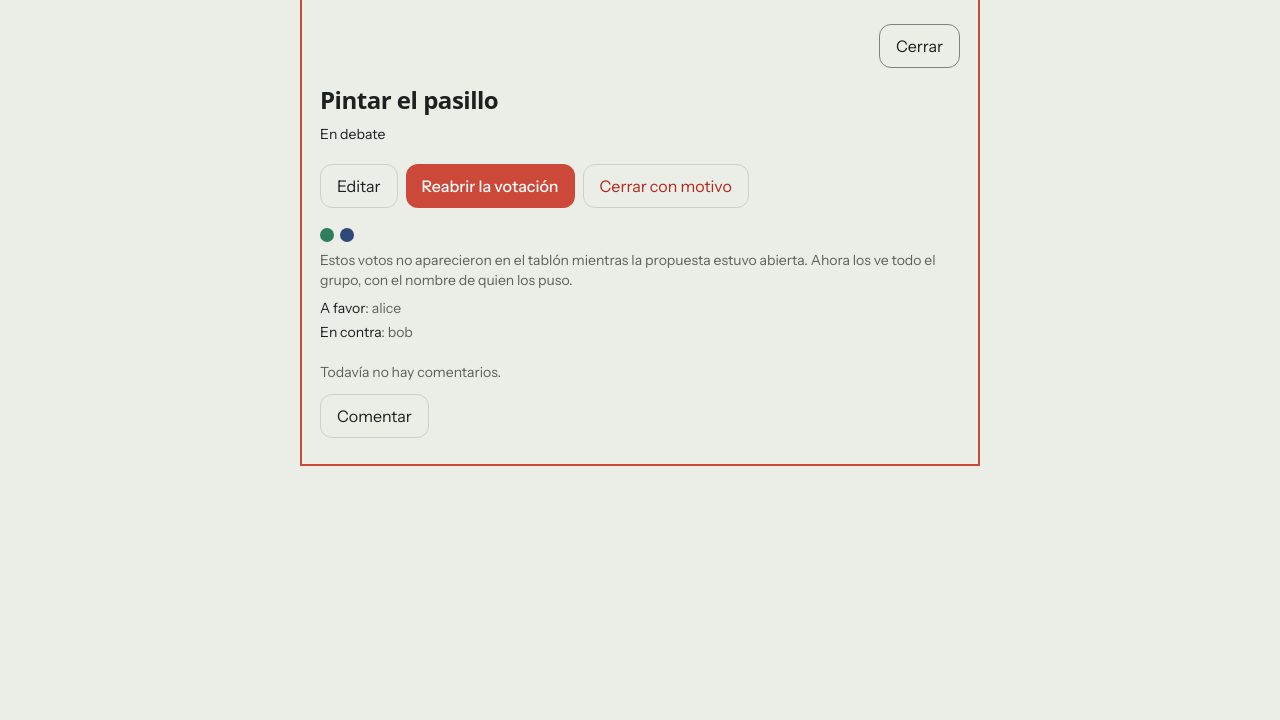
Test: BoardPage › cerrar con motivo se puede cancelar, y no escribe nada
The image size is (1280, 720).
Click the button "Cerrar con motivo": (666, 186) [582,164,749,208]
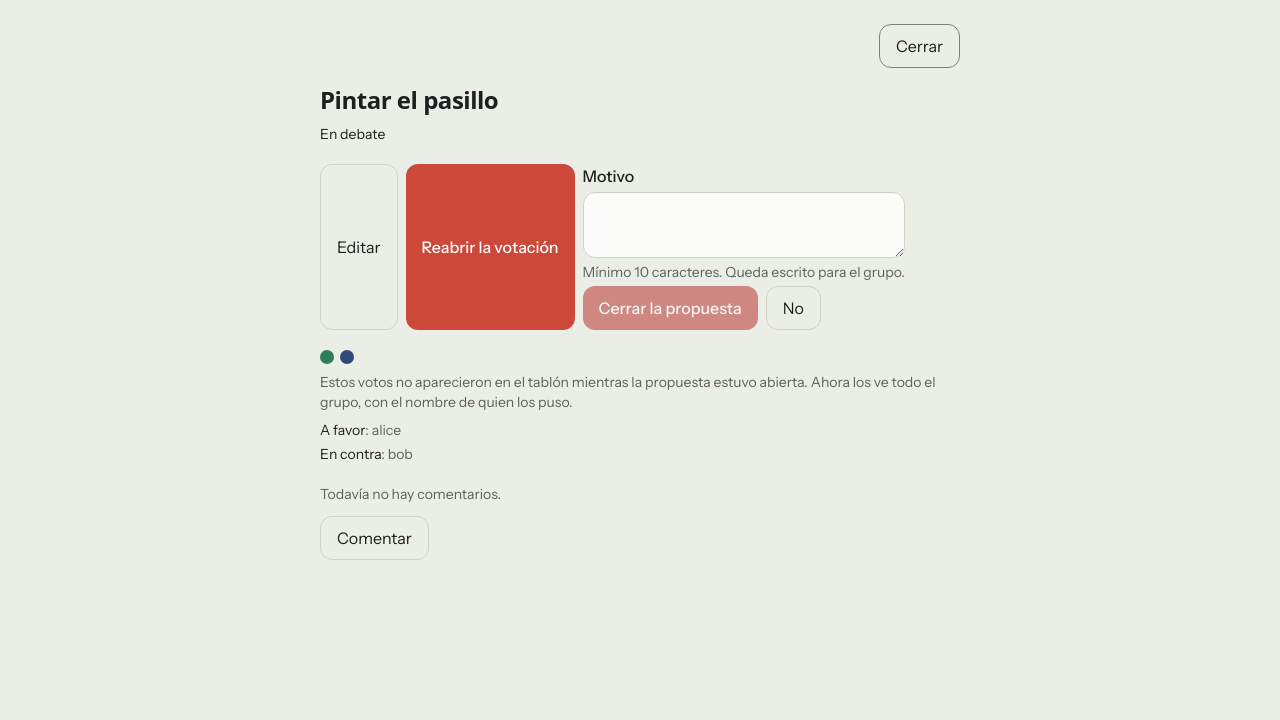
In the text box labelled "Motivo": (744, 225) [582,192,905,258], type "lo hablamos en persona y sobra"
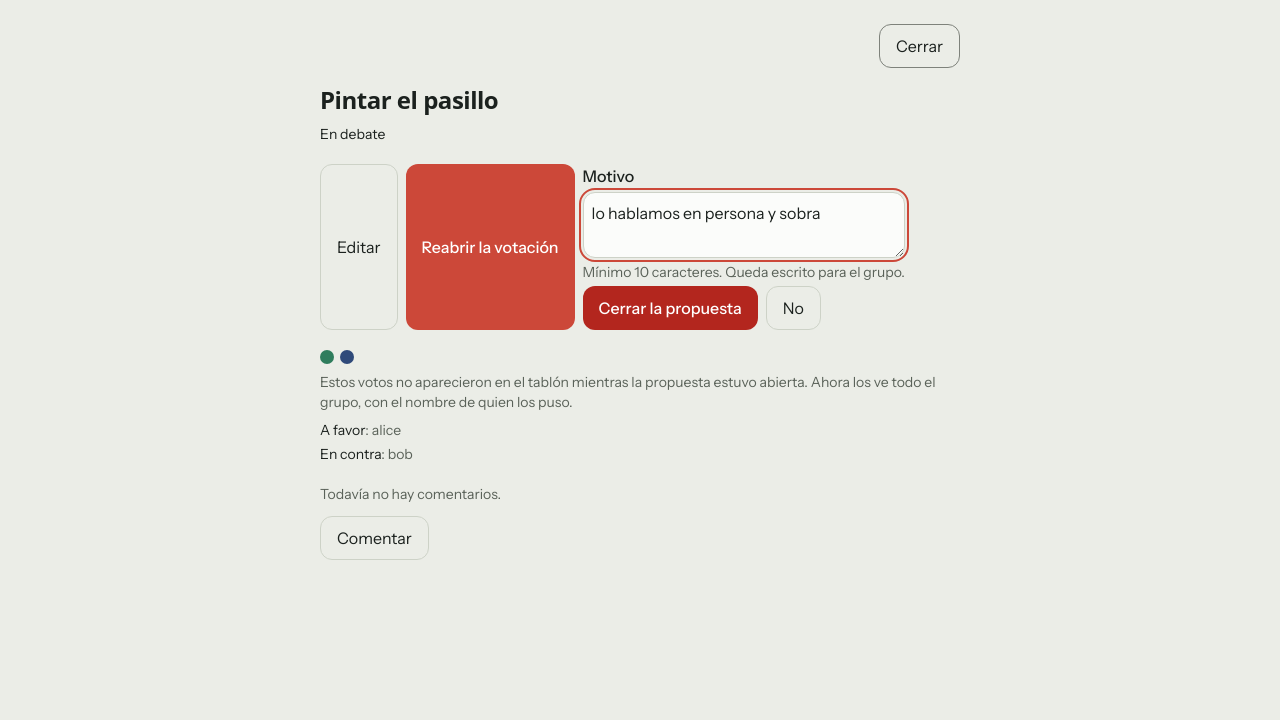
Click the button "No": (793, 308) [766,286,821,330]
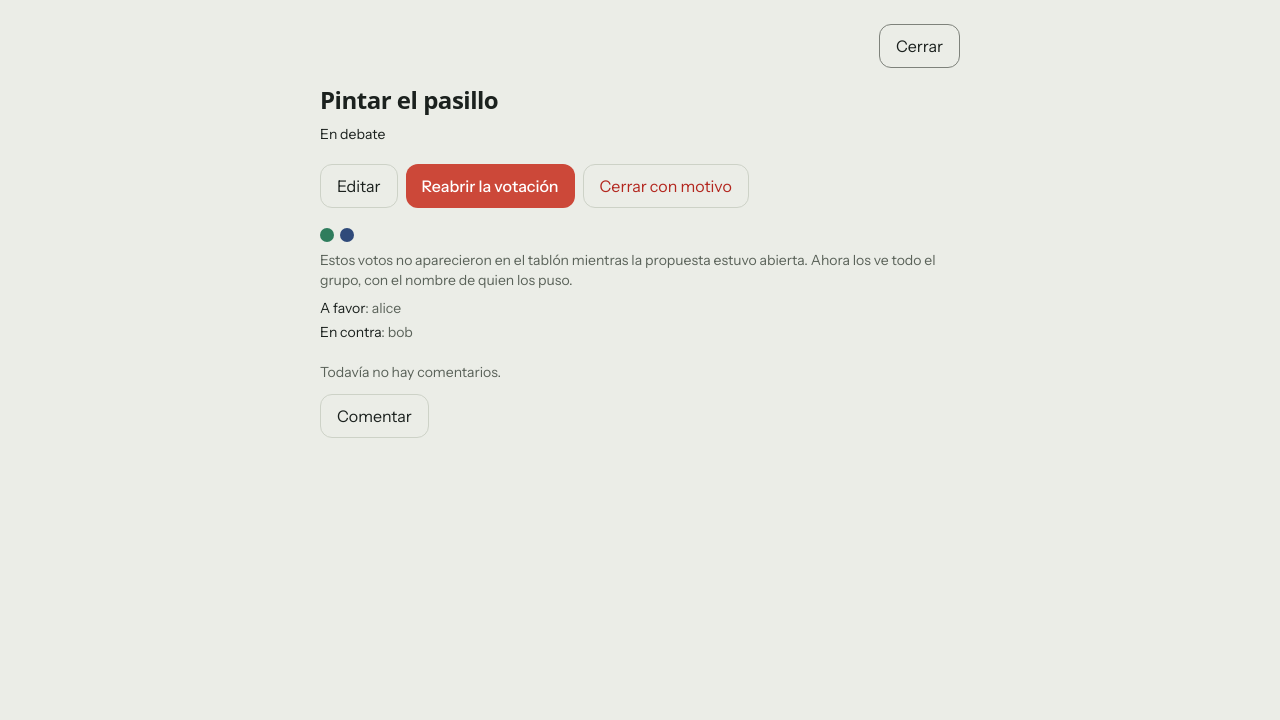
Now the button "Cerrar con motivo" is shown, box [582,164,749,208]
